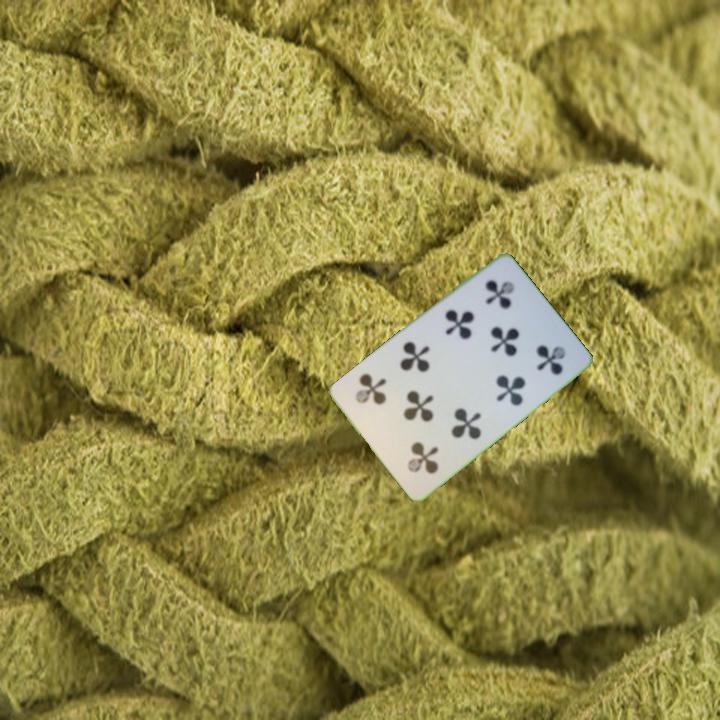c_10.png: (458, 261, 543, 347), (377, 405, 462, 491)
